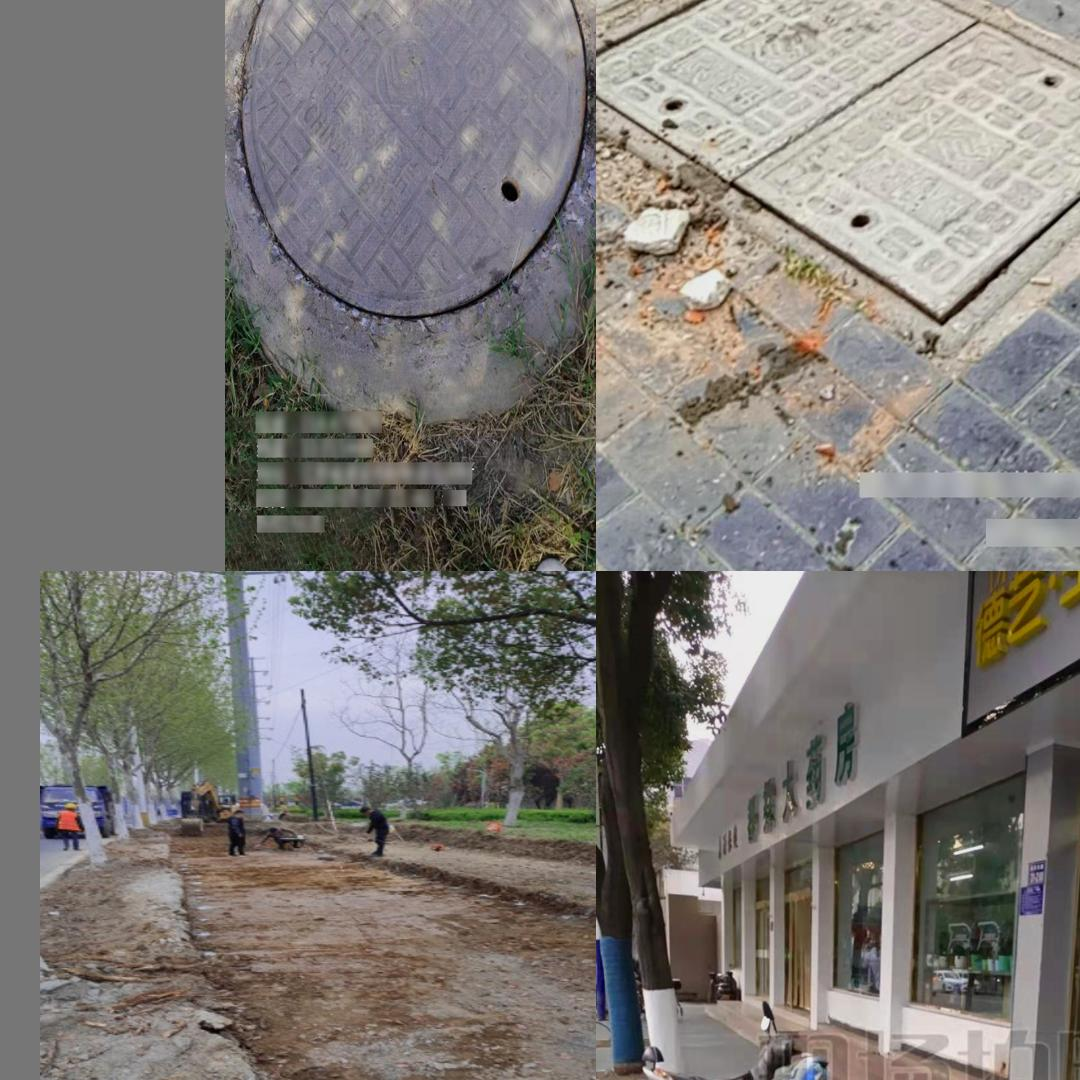good: (596, 0, 1080, 356), (225, 0, 596, 348)
